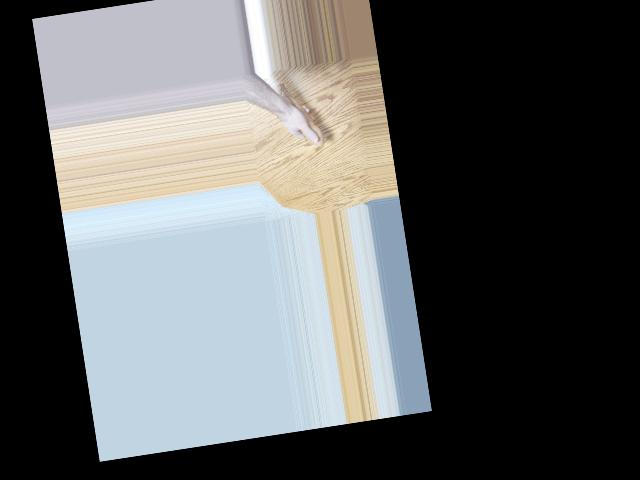sweet_potato: (275, 76, 323, 148)
